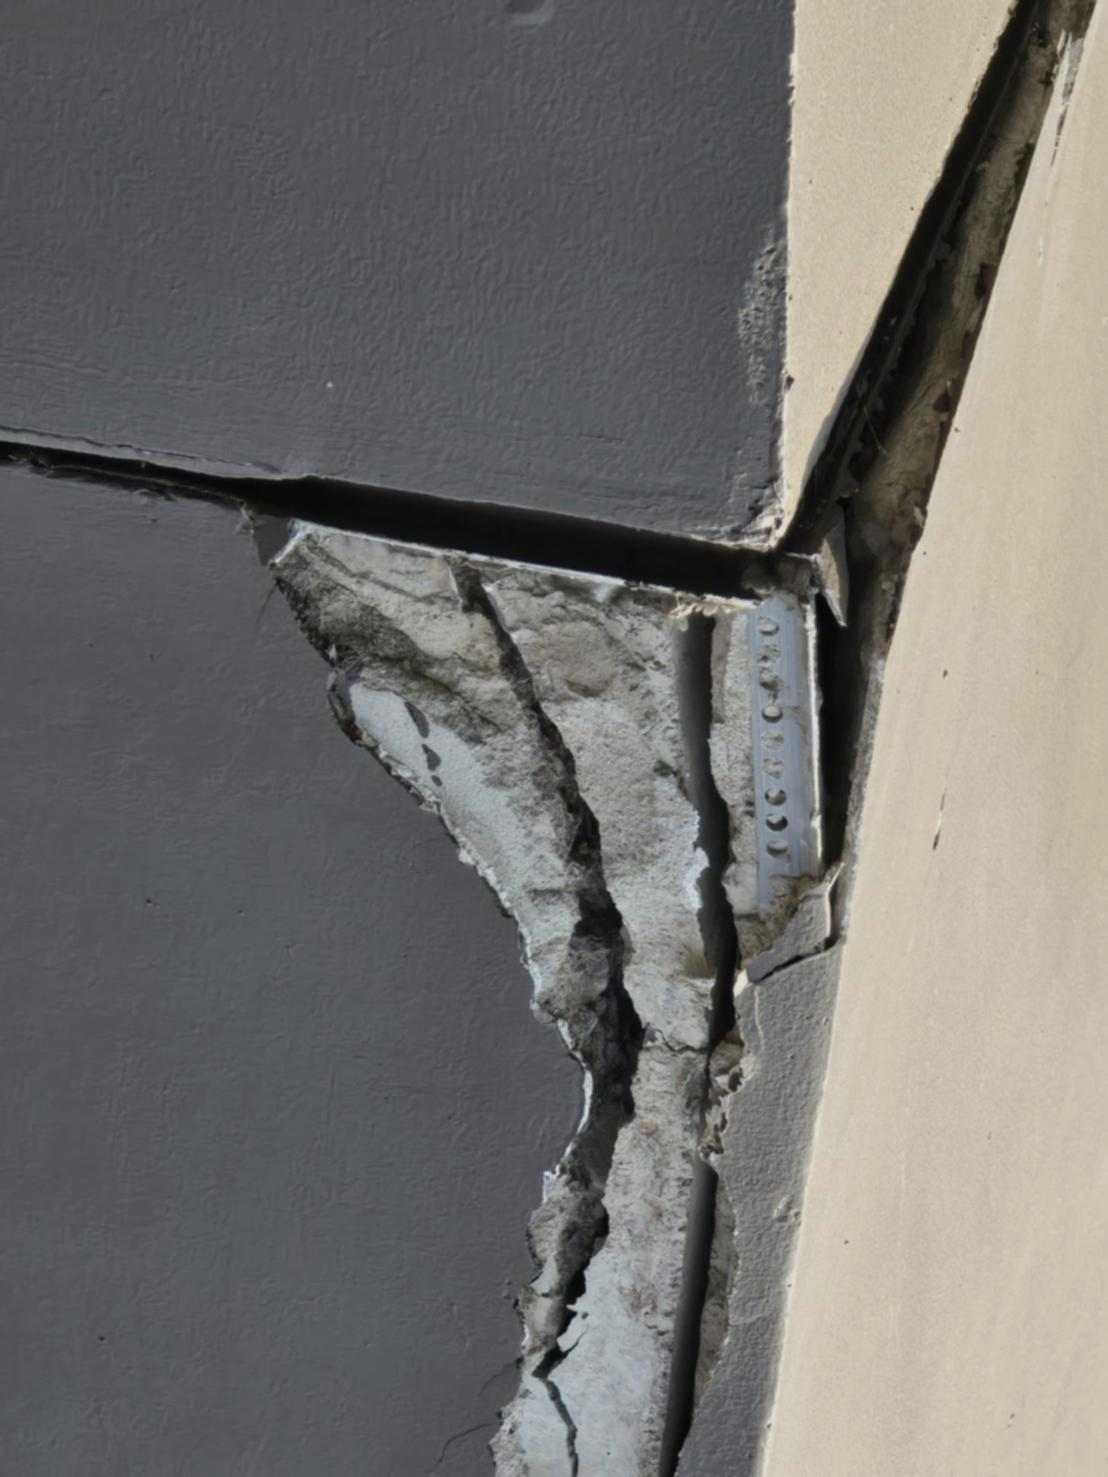High: (219, 1, 1108, 1477)
